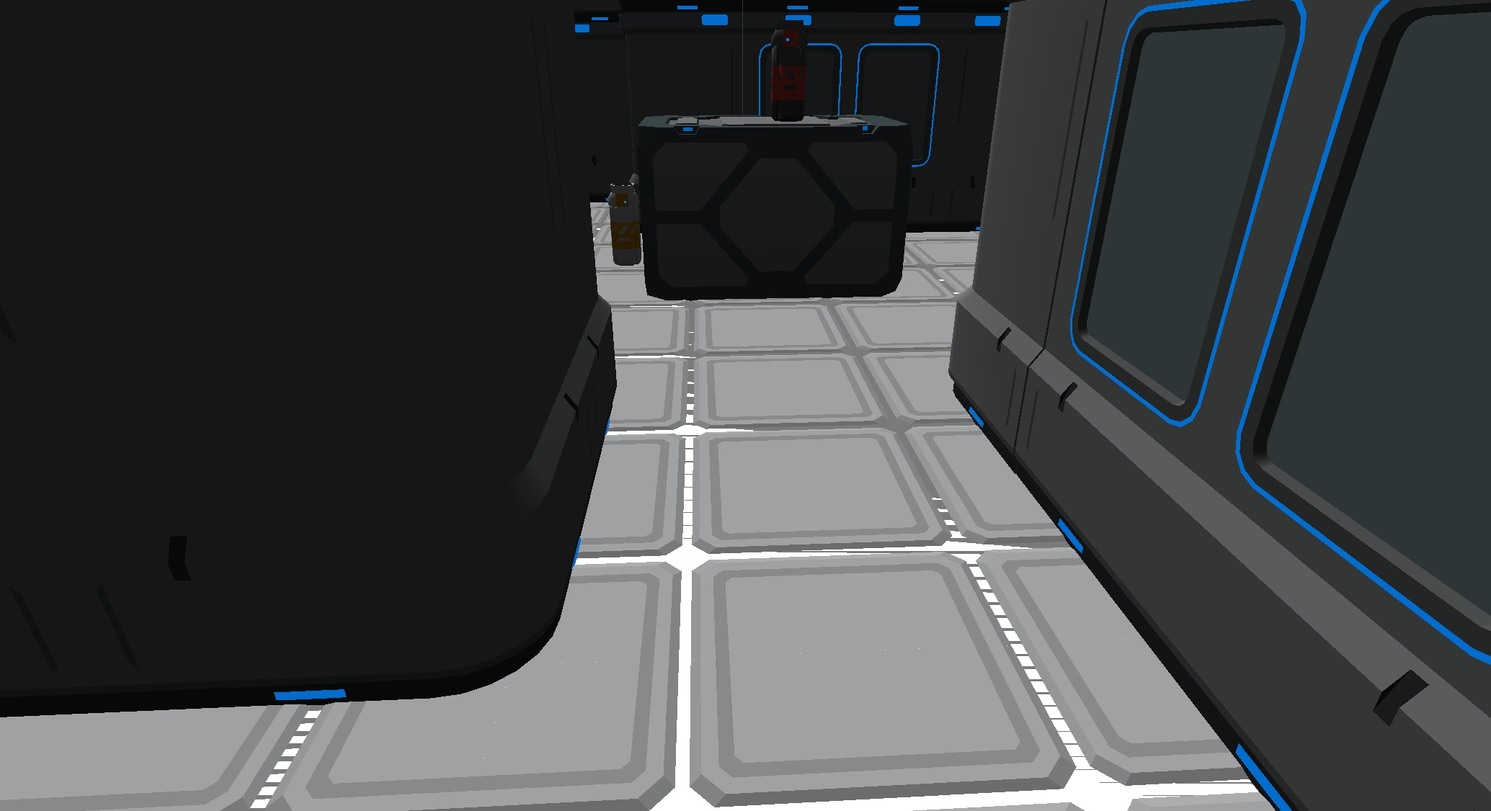red_barrel: (772, 28, 807, 120)
yellow_barrel: (608, 176, 642, 265)
